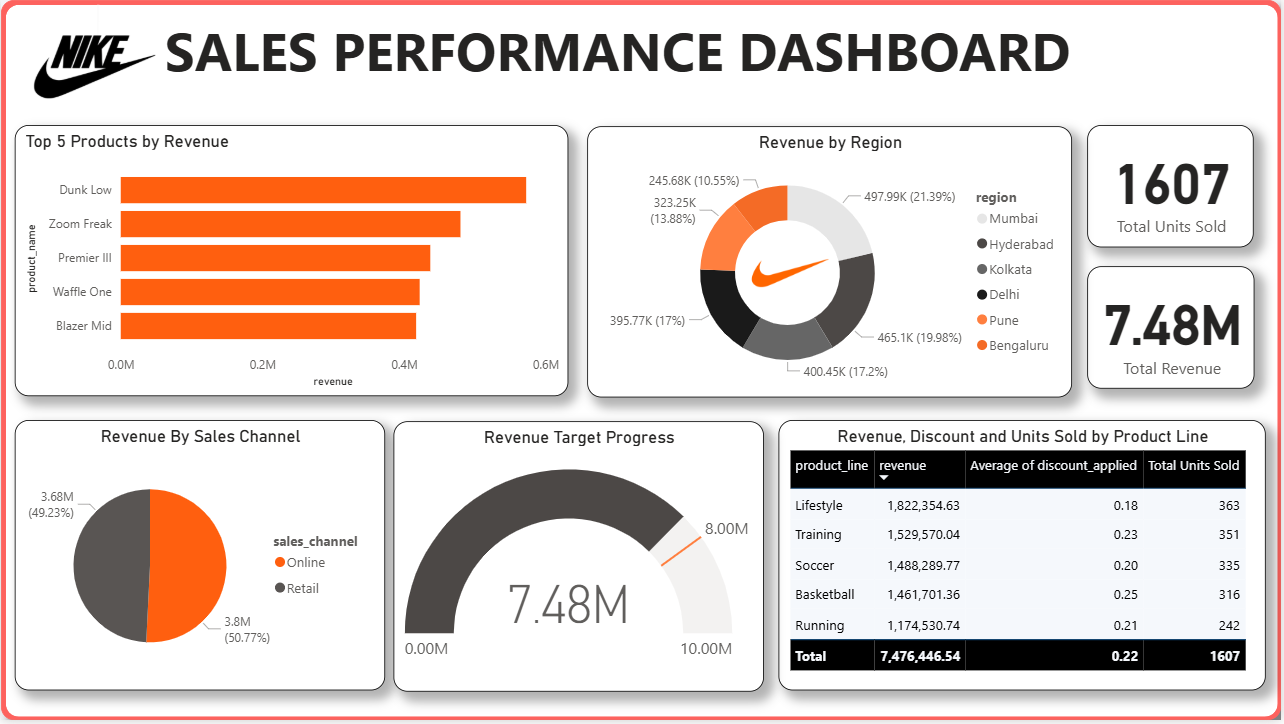

Layout of this report page (visuals, bound fields, positions):
{"tool":"powerbi","page":{"name":"Just Do It","canvas":[1280,720],"ordinal":0},"visuals":[{"type":"actionButton","box":[0,0,1280,720],"z":0},{"type":"ChicletSlicer1448559807354","fields":{"Category":["Sheet1.Color Scheme"],"Image":["Sheet1.URL"]},"box":[91.2,0,12.5,43.8],"z":1000},{"type":"card","fields":{"Values":["Min(Color Scheme.Suggestion)"]},"box":[955,0,291.2,49.1],"z":2000},{"type":"textbox","box":[158.8,8.8,1056.2,81.2],"z":3000},{"type":"image","box":[0,0,187.1,134.3],"z":4000},{"type":"card","fields":{"Values":["Sum(Nike_Sales_Cleaned.revenue)"]},"box":[1086.2,266.2,167.5,122.5],"z":5000},{"type":"card","fields":{"Values":["Sum(Nike_Sales_Cleaned.units_sold)"]},"box":[1086.2,125,166.2,122.5],"z":6000},{"type":"barChart","title":"Top 5 Products by Revenue","fields":{"Category":["Nike_Sales_Cleaned.product_name"],"Y":["Sum(Nike_Sales_Cleaned.revenue)"]},"box":[13.8,125,553.8,271.2],"z":7000},{"type":"pieChart","title":"Revenue By Sales Channel","fields":{"Category":["Nike_Sales_Cleaned.sales_channel"],"Y":["Sum(Nike_Sales_Cleaned.revenue)"]},"box":[13.8,420,370,270],"z":8000},{"type":"tableEx","title":"Revenue, Discount and Units Sold by Product Line","fields":{"Values":["Nike_Sales_Cleaned.product_line","Sum(Nike_Sales_Cleaned.revenue)","Avg(Nike_Sales_Cleaned.discount_applied)","Sum(Nike_Sales_Cleaned.units_sold)"]},"box":[777.5,420,487.5,270],"z":9000},{"type":"donutChart","title":"Revenue by Region","fields":{"Y":["Sum(Nike_Sales_Cleaned.revenue)"],"Category":["Nike_Sales_Cleaned.region"]},"box":[586.2,126.2,485,271.2],"z":9500},{"type":"image","box":[740.8,185.8,96.5,173.7],"z":10000},{"type":"gauge","title":"Revenue Target Progress","fields":{"Y":["Sum(Nike_Sales_Cleaned.revenue)"]},"box":[392.5,421.2,370,270],"z":12000}]}

Visuals, with their boxes in screenshot pixels (x1, y1, x2, y2), scaled from the page's 1280x720 canvas onto the 1284x724 screenshot:
actionButton: box=[0, 0, 1283, 723]
ChicletSlicer1448559807354 - Sheet1.Color Scheme x Sheet1.URL: box=[91, 0, 104, 44]
card - Min(Color Scheme.Suggestion): box=[958, 0, 1250, 49]
textbox: box=[159, 9, 1219, 90]
image: box=[0, 0, 188, 135]
card - Sum(Nike_Sales_Cleaned.revenue): box=[1090, 268, 1258, 391]
card - Sum(Nike_Sales_Cleaned.units_sold): box=[1090, 126, 1256, 249]
"Top 5 Products by Revenue" barChart: box=[14, 126, 569, 398]
"Revenue By Sales Channel" pieChart: box=[14, 422, 385, 694]
"Revenue, Discount and Units Sold by Product Line" tableEx: box=[780, 422, 1269, 694]
"Revenue by Region" donutChart: box=[588, 127, 1075, 400]
image: box=[743, 187, 840, 361]
"Revenue Target Progress" gauge: box=[394, 424, 765, 695]
